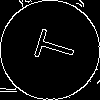T: (25, 25, 78, 68)
